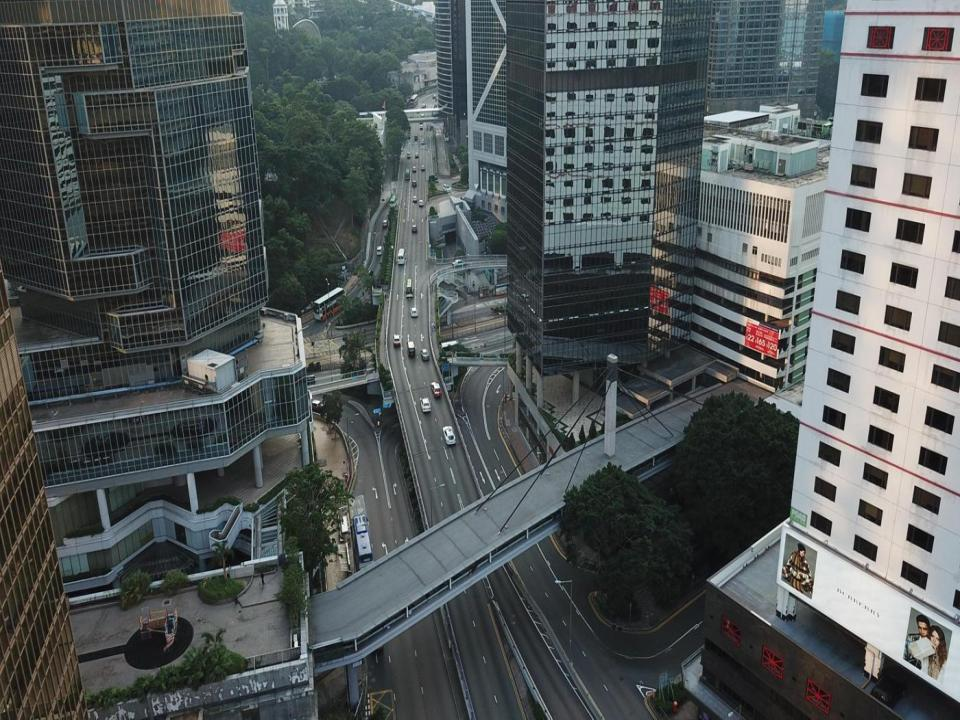bus: (353, 510, 375, 567), (314, 287, 346, 318), (394, 248, 409, 265), (404, 278, 414, 302), (410, 92, 418, 110), (375, 244, 383, 260), (404, 163, 410, 181)
car: (868, 671, 908, 705), (444, 424, 454, 448), (431, 382, 443, 400), (405, 339, 416, 358), (419, 398, 431, 415), (393, 335, 403, 348), (410, 220, 418, 236), (420, 134, 428, 150), (412, 177, 419, 192), (422, 350, 430, 363), (381, 218, 389, 231), (418, 196, 424, 212), (420, 162, 426, 175), (412, 164, 419, 174), (430, 90, 437, 99), (411, 196, 417, 206), (415, 150, 420, 162), (412, 306, 417, 317), (406, 149, 412, 158), (413, 130, 417, 142)
